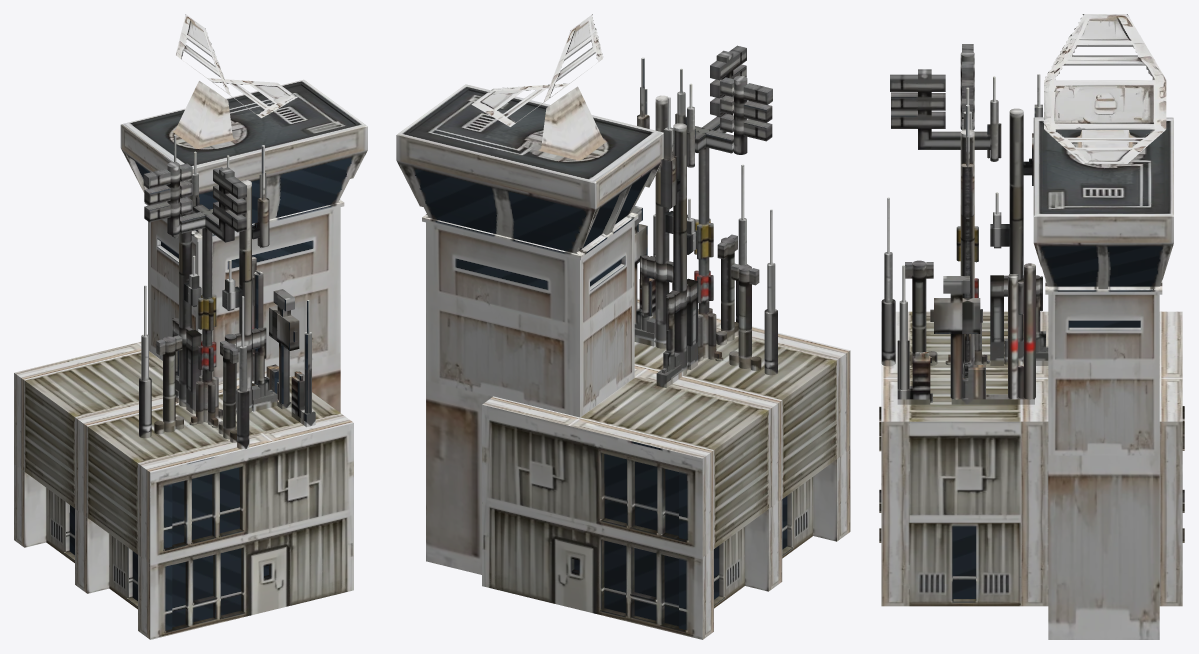
The model's file is s_sensorcontrol_cad.glb.
The picture shows the model from 3 angles, left to right: view 1: azimuth 30°, elevation 25°; view 2: azimuth 150°, elevation 25°; view 3: azimuth 270°, elevation 25°; orthographic projection. The views are drawn at different scales.
Visible parts, largest first — view 1: L_SensorControl, L_Dish; view 2: L_SensorControl, L_Dish; view 3: L_SensorControl, L_Dish.
Part boxes in pixels (<box>): L_SensorControl: <box>14,79,367,639</box>; L_Dish: <box>174,14,297,147</box>; L_SensorControl: <box>396,45,850,639</box>; L_Dish: <box>471,14,604,159</box>; L_SensorControl: <box>879,44,1184,639</box>; L_Dish: <box>1044,14,1166,163</box>.
Size of the model in its own units: 15.76 by 26.74 by 13.18.
3 materials, 3 textured.
